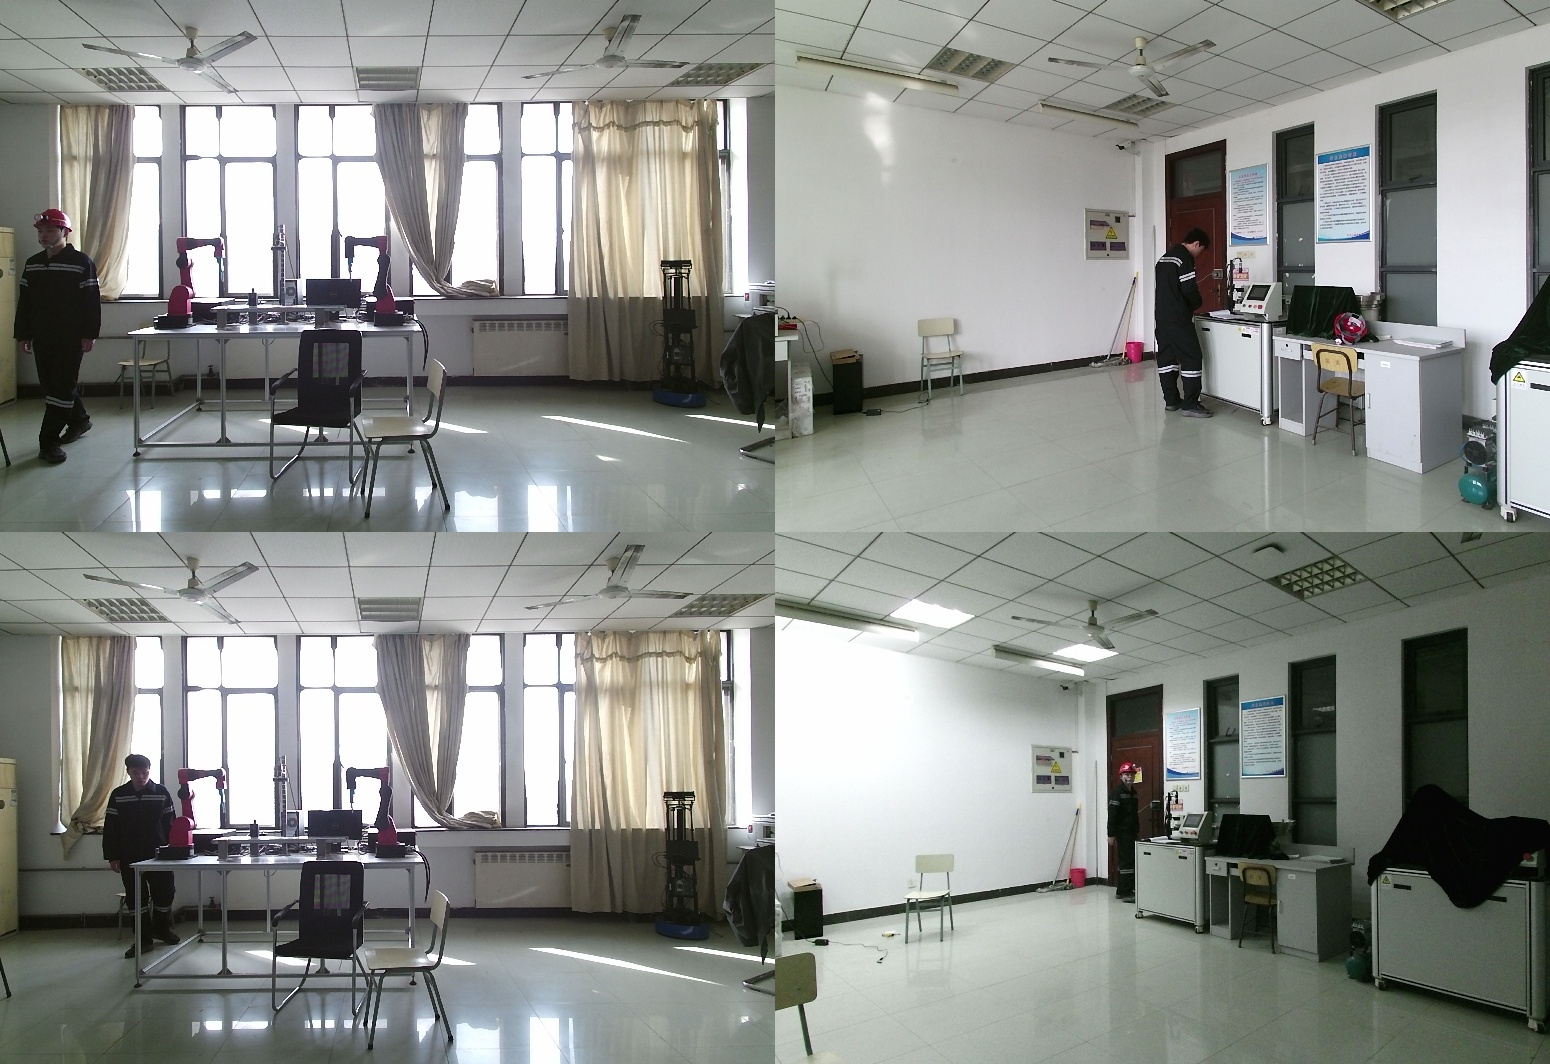person: (9, 207, 106, 465), (96, 754, 185, 957), (1156, 231, 1215, 428), (1105, 764, 1145, 906)
